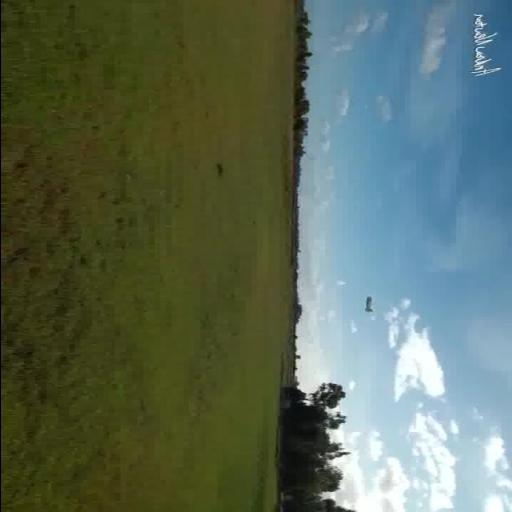uav: (356, 292, 384, 319)
